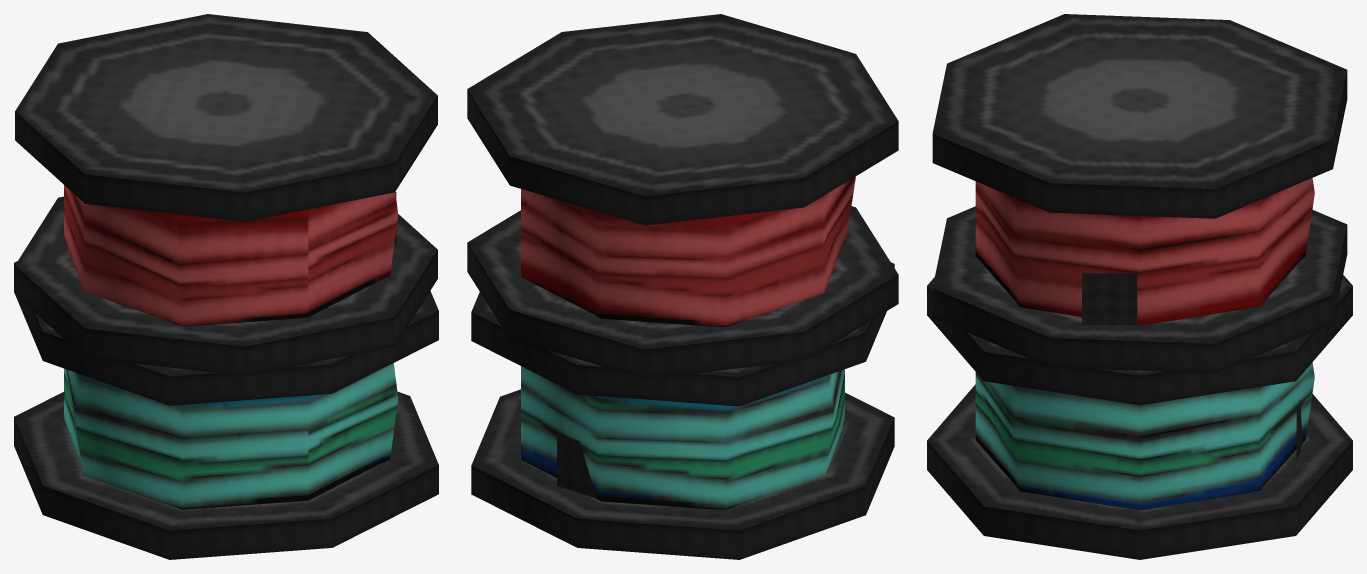
The model's file is CableSpool1x1.fbx.
The picture shows the model from 3 angles, left to right: view 1: azimuth 30°, elevation 25°; view 2: azimuth 150°, elevation 25°; view 3: azimuth 270°, elevation 25°; orthographic projection.
Visible parts, largest first — view 1: Plane; view 2: Plane; view 3: Plane.
Part boxes in pixels (left/top/right/bottom): Plane: left=14, top=14, right=438, bottom=559; Plane: left=467, top=14, right=898, bottom=559; Plane: left=927, top=14, right=1352, bottom=559.
Size of the model in its own units: 105 by 100 by 105.
1 material, 1 textured.
